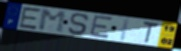E: (88, 14, 115, 40), (17, 6, 44, 31)
I: (118, 17, 132, 42)
M: (38, 9, 68, 34)
S: (67, 13, 91, 37)
T: (141, 21, 160, 45)
